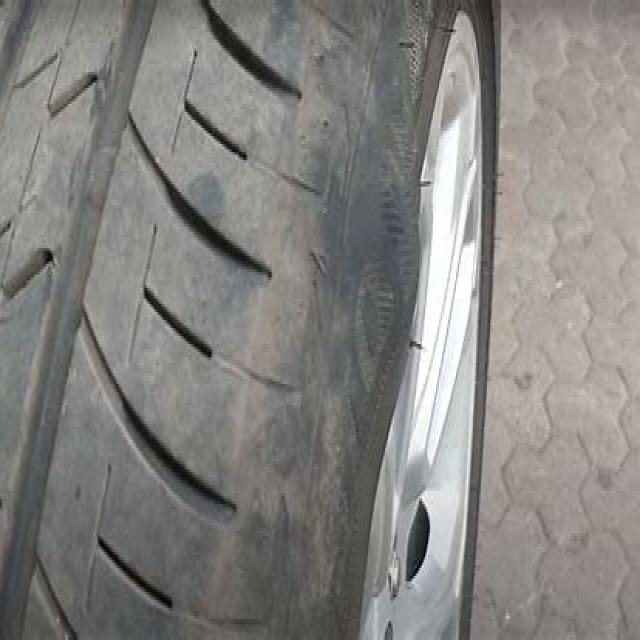Bulge: (328, 122, 426, 450)
